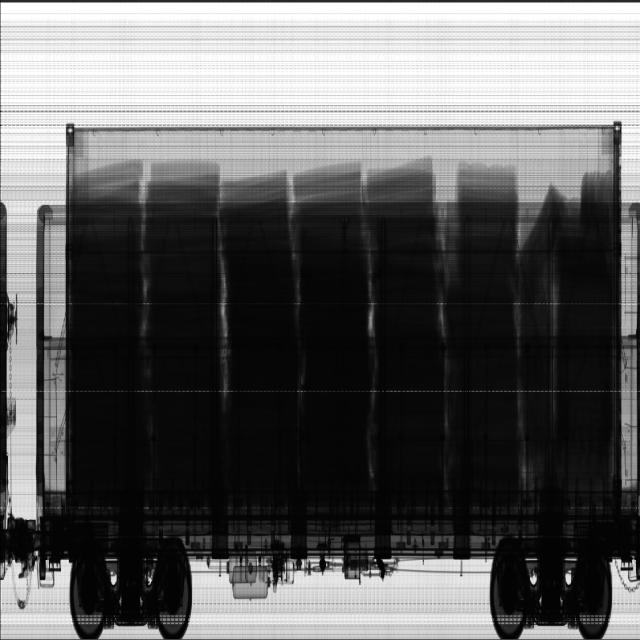fabrics: (32, 118, 105, 267), (437, 272, 503, 404)
